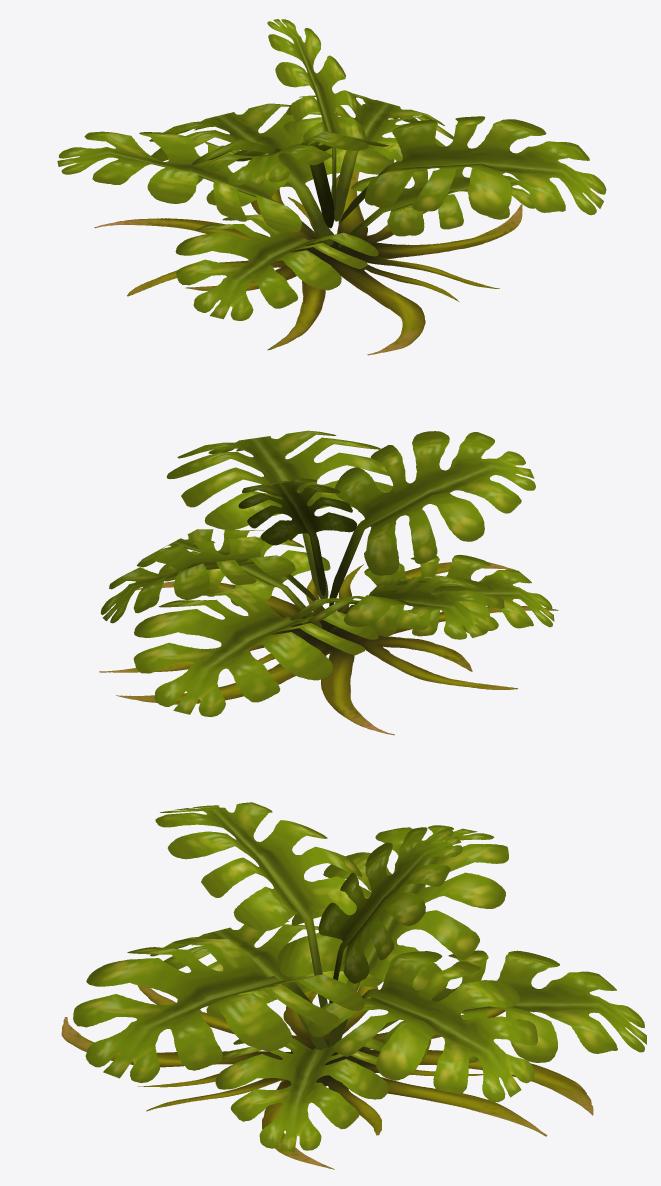
The model's file is plantD.fbx.
3 views of the same model, one above another, from view 1: azimuth 30°, elevation 25°; view 2: azimuth 150°, elevation 25°; view 3: azimuth 270°, elevation 25° (orthographic). The views are drawn at different scales.
Visible parts, largest first — view 1: plantD; view 2: plantD; view 3: plantD.
Boxes of the visible parts, <box> form: plantD: <box>57,19,606,355</box>; plantD: <box>99,430,558,735</box>; plantD: <box>61,802,646,1169</box>.
Bounding box in the file's own units: 140 × 55.78 × 136.
1 material, 1 textured.
